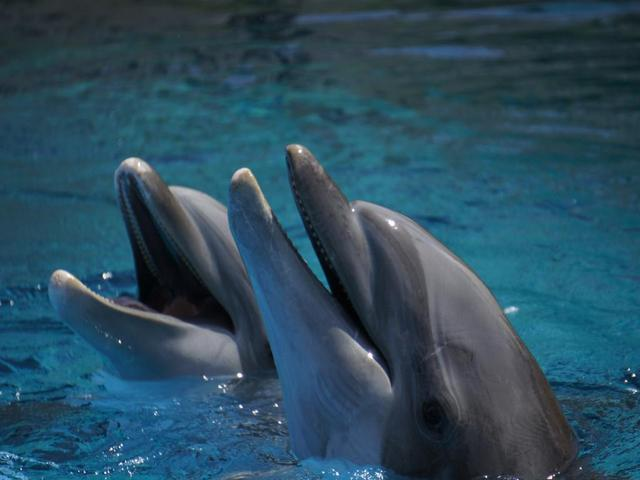dolphin: (211, 127, 586, 468)
